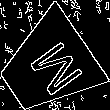M_SW: (15, 33, 80, 100)
